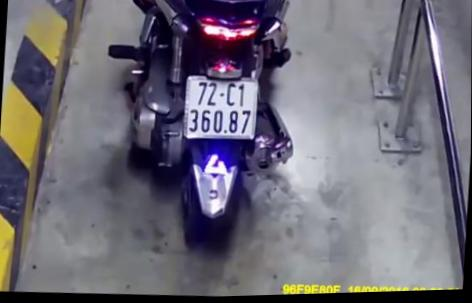LP: (181, 73, 261, 144)
